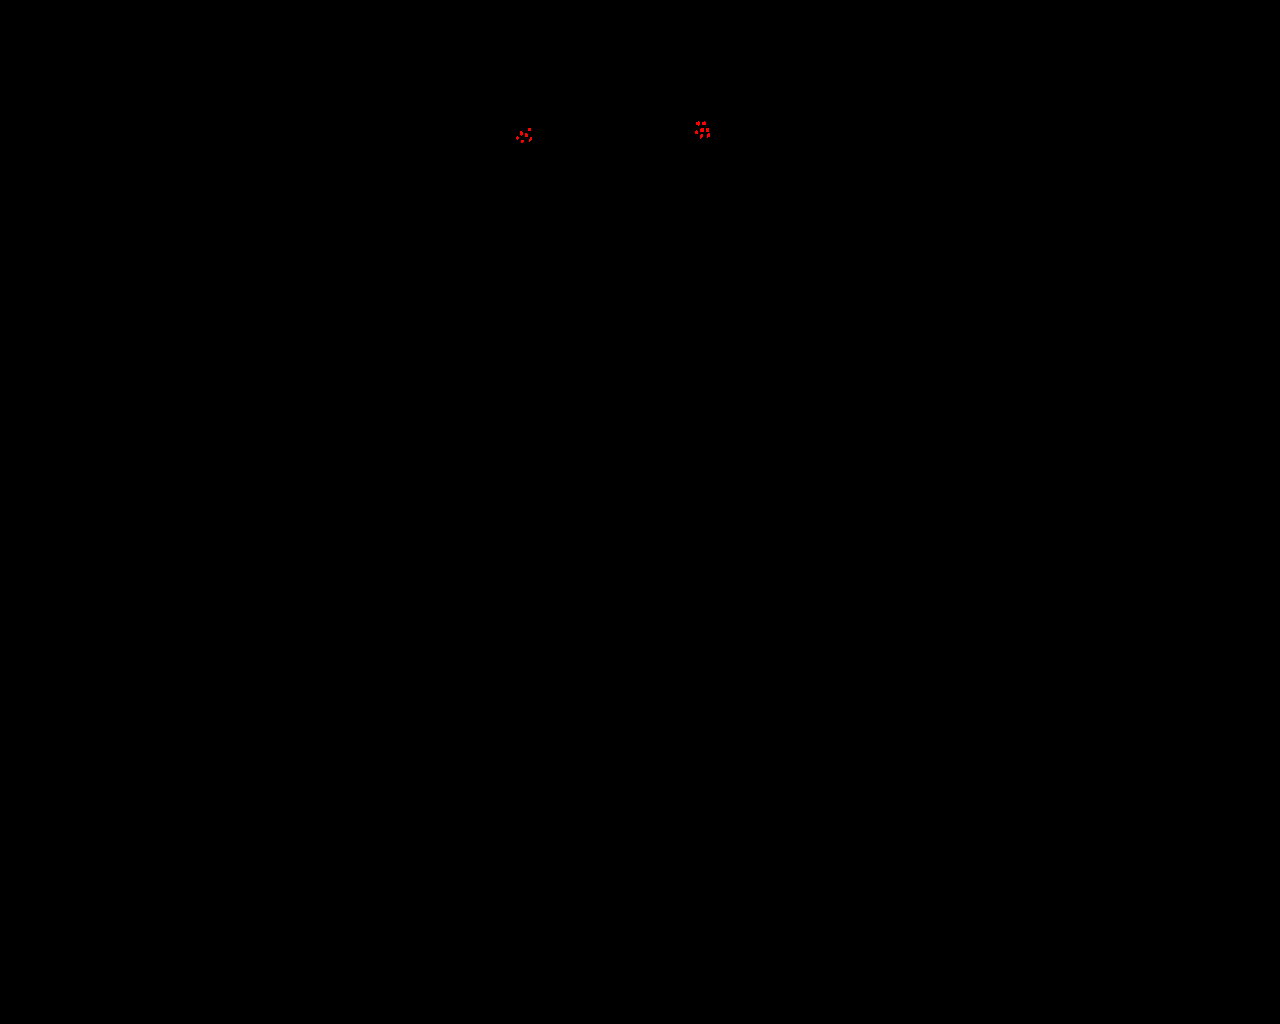Target: (696, 121, 700, 126), (702, 121, 706, 125), (700, 127, 704, 132), (520, 131, 523, 136), (700, 134, 703, 139), (529, 137, 532, 142), (706, 127, 709, 132), (695, 130, 698, 134), (525, 133, 528, 137), (516, 136, 519, 140), (707, 133, 709, 138), (528, 127, 531, 131), (521, 140, 523, 143)
